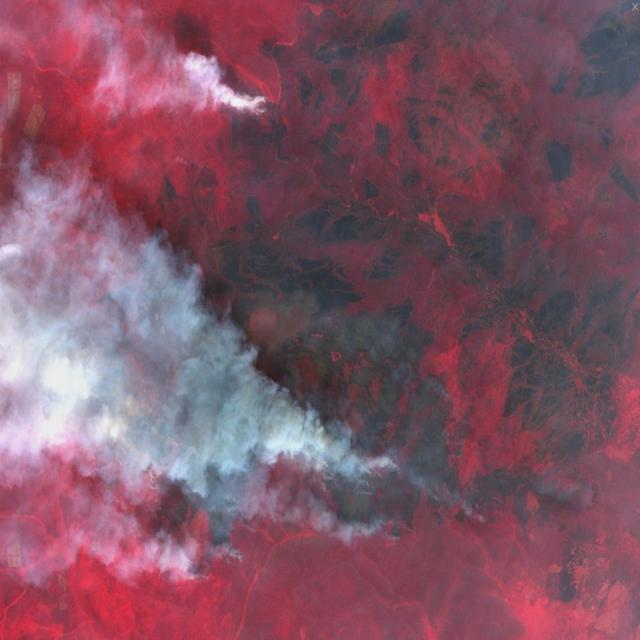fire: (88, 329, 262, 585), (315, 431, 421, 552), (241, 83, 277, 127)
